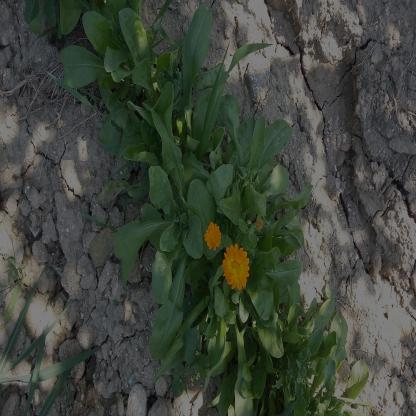marigold: (223, 243, 249, 292), (203, 219, 221, 252)
